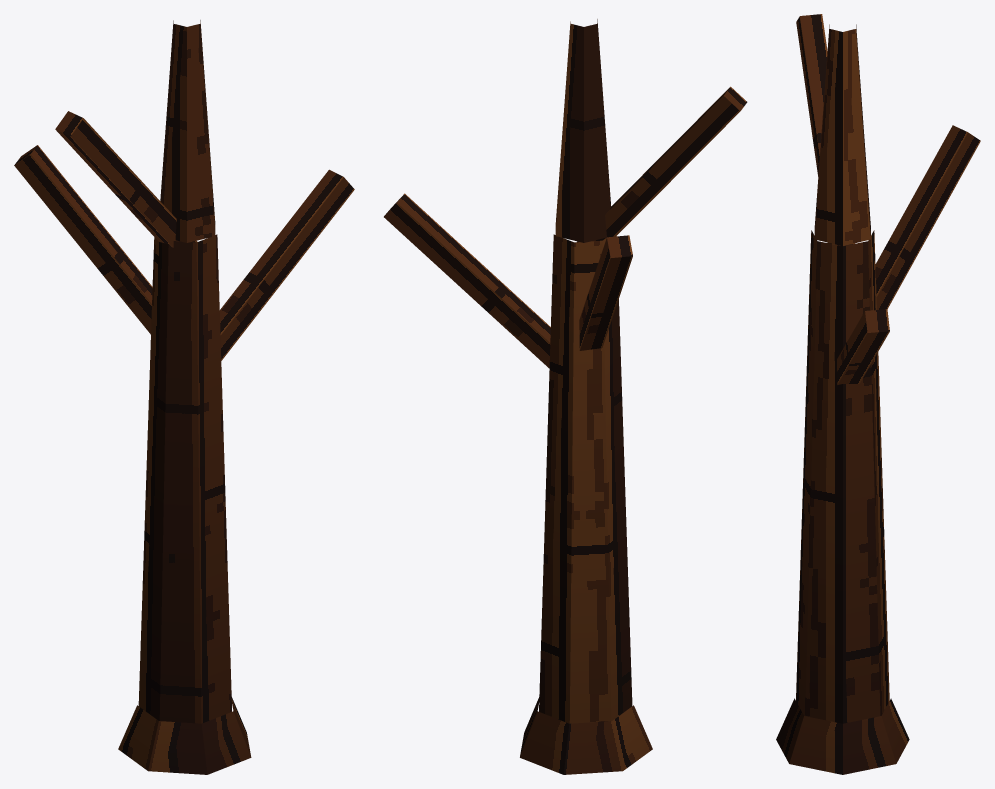
Rendered from apple_2_trunk.glb.
3 renders of one model, left to right at view 1: azimuth 30°, elevation 25°; view 2: azimuth 150°, elevation 25°; view 3: azimuth 270°, elevation 25°, orthographic.
Visible parts, largest first — view 1: apple_2_trunk; view 2: apple_2_trunk; view 3: apple_2_trunk.
Boxes of the visible parts, box(x1,y1,x2,y2) form: apple_2_trunk: box(14, 20, 354, 774); apple_2_trunk: box(384, 19, 747, 774); apple_2_trunk: box(776, 14, 980, 774).
Bounding box in the file's own units: 1.95 × 4.18 × 1.08.
1 material, 1 textured.
